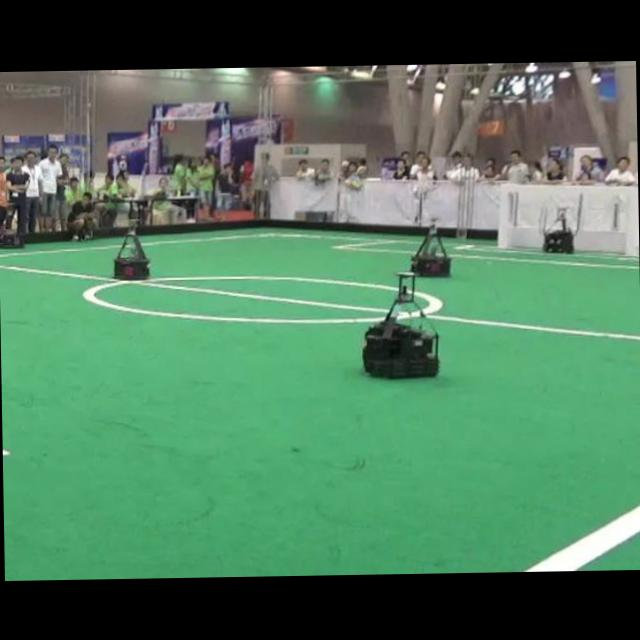goal: (625, 187, 638, 253), (497, 183, 509, 247)
robot: (363, 271, 438, 375), (410, 223, 450, 276), (114, 232, 147, 277), (542, 207, 574, 252)
